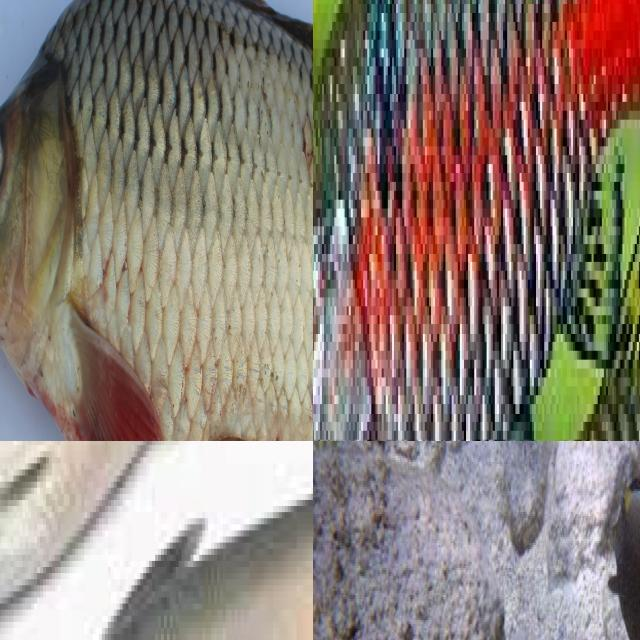fish: (0, 0, 313, 441), (0, 441, 313, 640), (437, 0, 533, 182)
